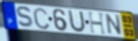6: (52, 8, 69, 33)
C: (32, 7, 51, 31)
H: (87, 11, 108, 36)
N: (105, 13, 123, 36)
S: (15, 5, 36, 29)
U: (68, 9, 87, 34)
